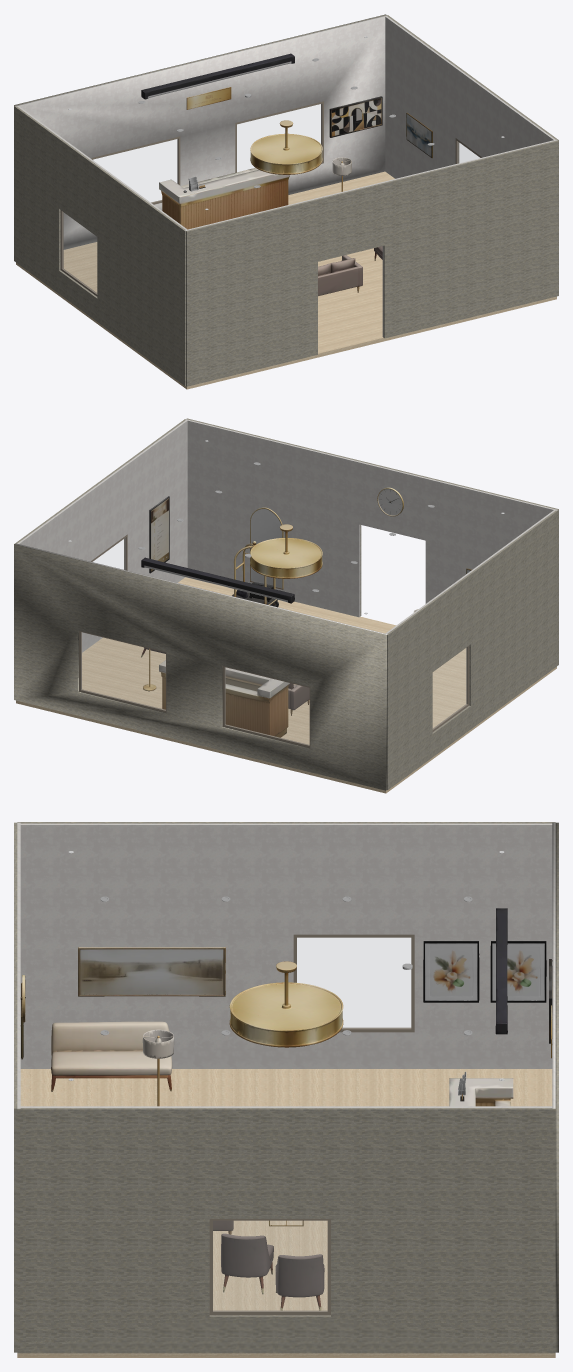
The model's file is scene_web.glb.
3 views of the same model, one above another, from view 1: azimuth 30°, elevation 25°; view 2: azimuth 150°, elevation 25°; view 3: azimuth 270°, elevation 25° (orthographic). The views are drawn at different scales.
Visible parts, largest first — view 1: geometry_0.003, geometry_0, geometry_0.007, geometry_0.004, Mesh_0, geometry_0.008, glass, geometry_0.031, glass.001, glass.003, geometry_0.022, geometry_0.032 (+7 smaller); view 2: geometry_0.001, geometry_0.002, geometry_0.007, geometry_0.004, Mesh_0, glass, glass.001, geometry_0.008, geometry_0.031, glass.003, geometry_0.032, geometry_0.024 (+9 smaller); view 3: geometry_0.005, geometry_0.006, Mesh_0, glass.002, glass.003, geometry_0.028, geometry_0.031, geometry_0.016, geometry_0.029, geometry_0.030, geometry_0.018, geometry_0.001 (+11 smaller).
Boxes of the visible parts, <box> form: geometry_0.003: <box>186,140,558,386</box>; geometry_0: <box>15,15,387,249</box>; geometry_0.007: <box>14,106,185,385</box>; geometry_0.004: <box>385,16,555,178</box>; Mesh_0: <box>16,171,556,389</box>; geometry_0.008: <box>159,168,289,229</box>; glass: <box>94,139,177,202</box>; geometry_0.031: <box>250,120,322,174</box>; glass.001: <box>237,104,321,171</box>; glass.003: <box>63,212,96,293</box>; geometry_0.022: <box>329,96,382,137</box>; geometry_0.032: <box>141,53,294,99</box>; geometry_0.001: <box>14,544,386,790</box>; geometry_0.002: <box>185,419,557,617</box>; geometry_0.007: <box>387,510,558,789</box>; geometry_0.004: <box>17,420,187,652</box>; Mesh_0: <box>16,577,556,793</box>; glass: <box>225,667,309,744</box>; glass.001: <box>81,632,165,709</box>; geometry_0.008: <box>159,660,289,737</box>; geometry_0.031: <box>250,524,322,578</box>; glass.003: <box>433,648,466,728</box>; geometry_0.032: <box>141,557,294,603</box>; geometry_0.024: <box>250,507,283,589</box>; geometry_0.005: <box>17,1108,555,1353</box>; geometry_0.006: <box>20,823,552,1068</box>; Mesh_0: <box>17,1069,555,1357</box>; glass.002: <box>213,1221,327,1311</box>; glass.003: <box>297,938,410,1028</box>; geometry_0.028: <box>78,947,225,996</box>; geometry_0.031: <box>229,961,343,1047</box>; geometry_0.016: <box>51,1021,172,1091</box>; geometry_0.029: <box>423,941,479,1002</box>; geometry_0.030: <box>490,941,546,1002</box>; geometry_0.018: <box>221,1233,273,1294</box>; geometry_0.001: <box>555,822,558,1352</box>.
Bounding box in the file's own units: 10.1 × 4.1 × 8.1.
Materials: 42 (40 with a texture image).
